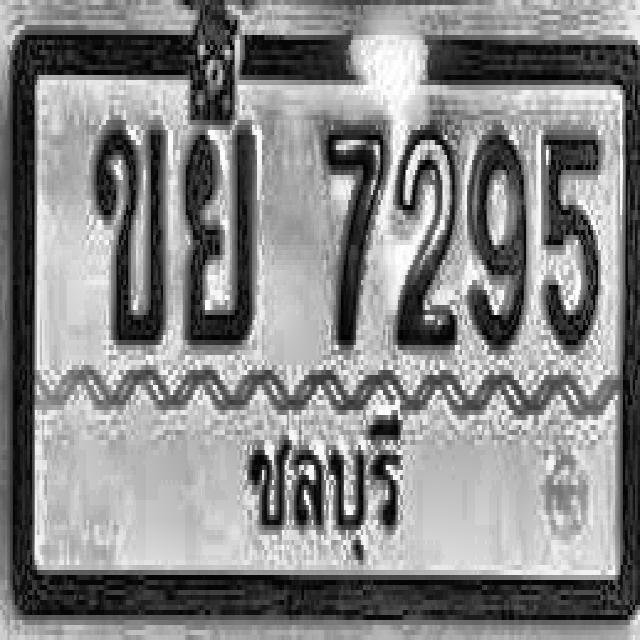license-plate: (11, 22, 640, 640)
